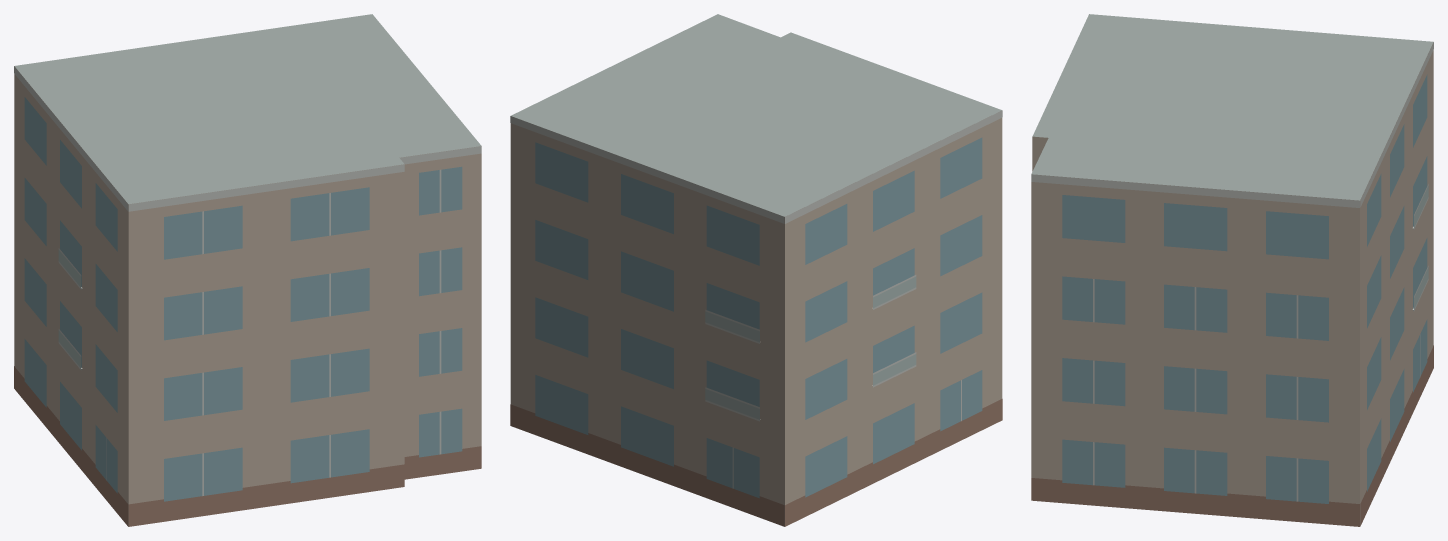
Rendered from survey-upis-32528683.glb.
3 views of the same model, side by side, from view 1: azimuth 30°, elevation 25°; view 2: azimuth 150°, elevation 25°; view 3: azimuth 270°, elevation 25° (orthographic). The views are drawn at different scales.
Parts seen in each view (by area): view 1: survey-upis-32528683.tmp; view 2: survey-upis-32528683.tmp; view 3: survey-upis-32528683.tmp.
Boxes of the visible parts, x1,y1,x2,y2 form: survey-upis-32528683.tmp: [14, 14, 481, 526]; survey-upis-32528683.tmp: [510, 14, 1002, 526]; survey-upis-32528683.tmp: [1031, 14, 1433, 526].
Size of the model in its own units: 12.89 by 10.5 by 11.75.
